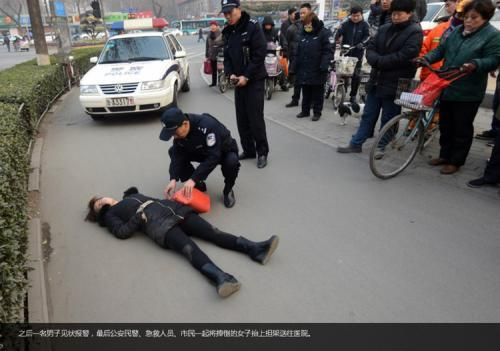bending: (159, 104, 240, 211)
down: (82, 185, 281, 300)
up: (424, 3, 500, 175), (342, 1, 419, 155), (217, 1, 274, 175), (292, 11, 337, 119), (333, 5, 367, 112), (284, 2, 312, 113), (199, 20, 229, 92)
